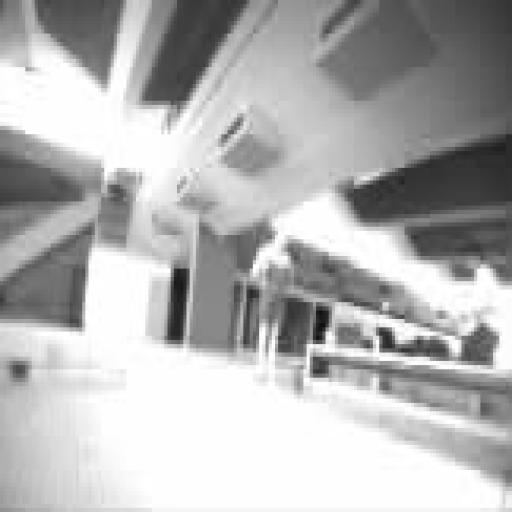human: (250, 231, 293, 381)
